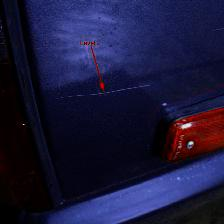bumper_scratch: (42, 81, 161, 105)
